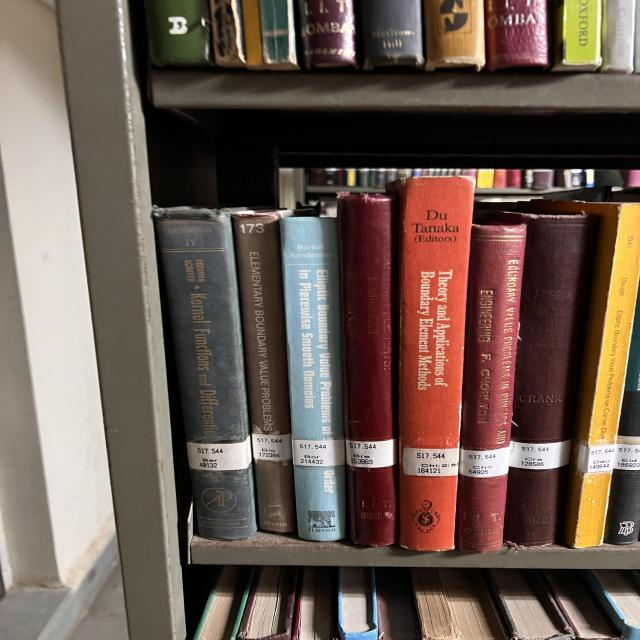Book: (518, 200, 640, 548), (153, 206, 257, 540), (503, 215, 600, 546), (397, 176, 473, 551), (457, 225, 527, 552), (280, 219, 347, 541), (232, 211, 297, 534), (338, 192, 397, 546), (603, 295, 640, 545)
Label: (187, 436, 252, 471), (508, 440, 572, 470), (458, 446, 510, 478), (403, 448, 460, 476), (345, 439, 397, 468), (292, 439, 345, 466), (577, 444, 617, 472), (252, 434, 292, 461), (613, 444, 640, 470)
